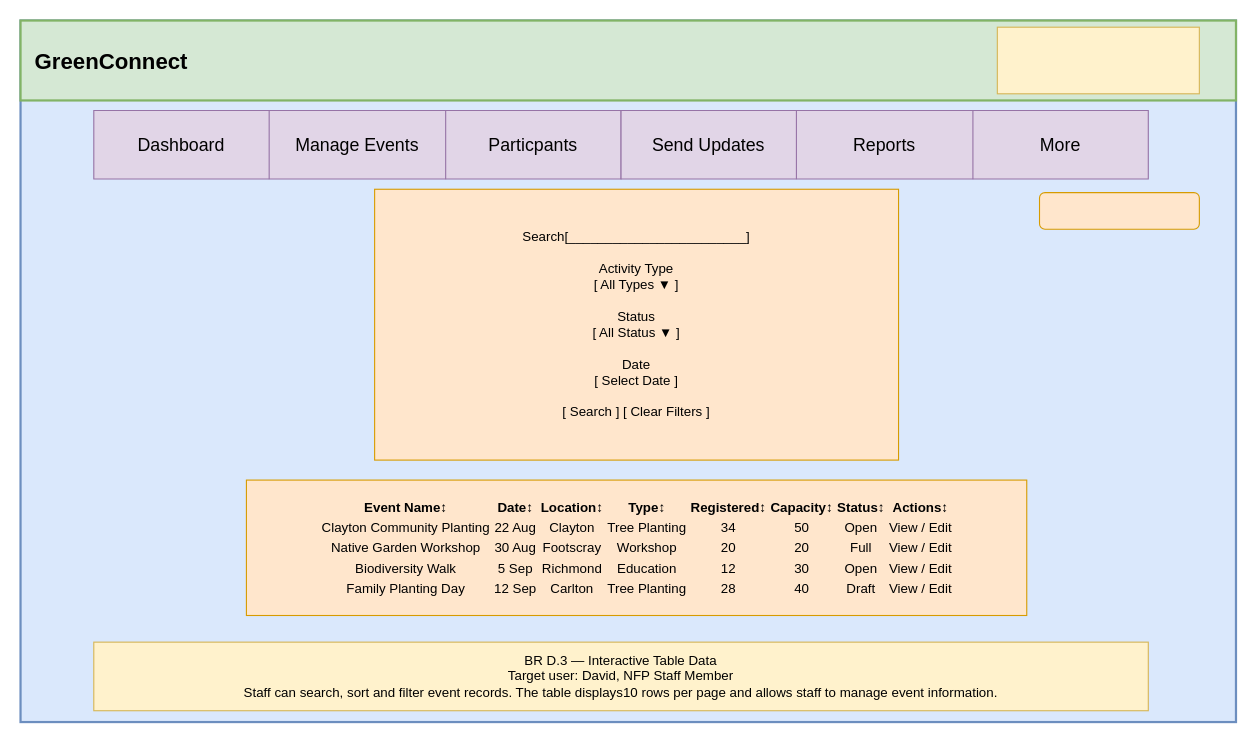
The diagram is 1255 pixels wide and 741 high, and some of its shapes have lost their labels. Each missing label, with the centre of its shape:
"[ + Create New Event ]" belongs at (x=1118, y=210).
"Staff Account David Nguyen ▼" belongs at (x=1097, y=60).
